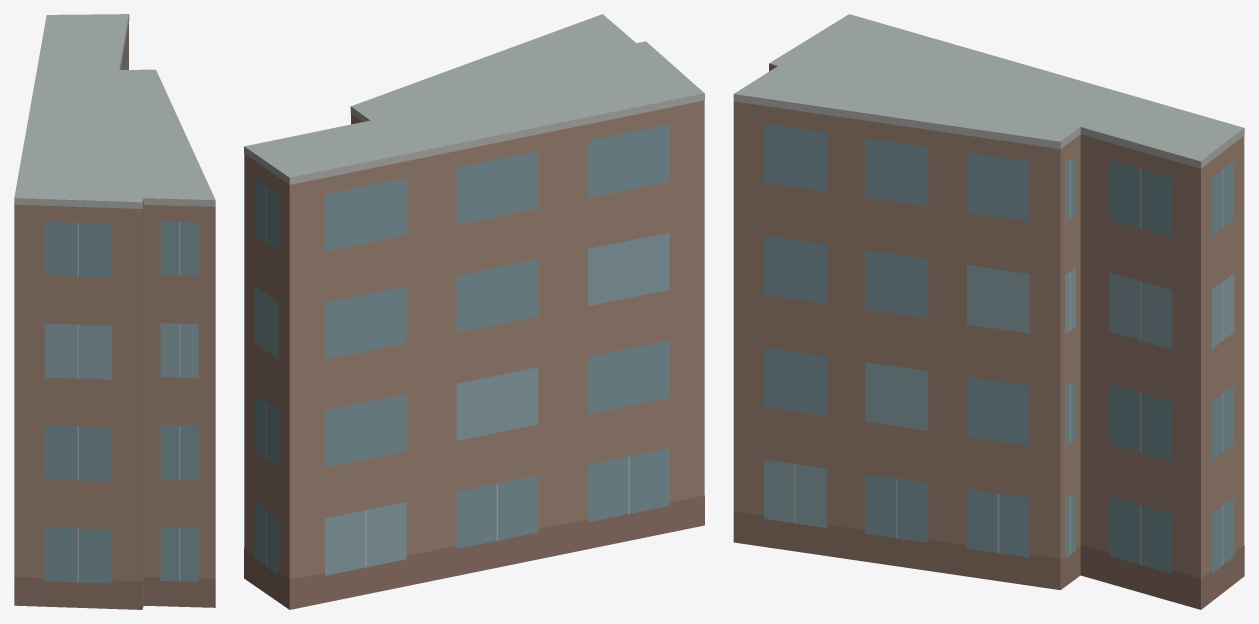
The model's file is survey-upis-32487105.glb.
3 renders of one model, left to right at view 1: azimuth 30°, elevation 25°; view 2: azimuth 150°, elevation 25°; view 3: azimuth 270°, elevation 25°, orthographic. The views are drawn at different scales.
Parts seen in each view (by area): view 1: survey-upis-32487105.tmp; view 2: survey-upis-32487105.tmp; view 3: survey-upis-32487105.tmp.
Boxes of the visible parts, bbox=[...] form: survey-upis-32487105.tmp: bbox=[14, 14, 215, 609]; survey-upis-32487105.tmp: bbox=[244, 14, 704, 609]; survey-upis-32487105.tmp: bbox=[733, 14, 1244, 609].
Bounding box in the file's own units: 10.48 × 14.85 × 15.34.
